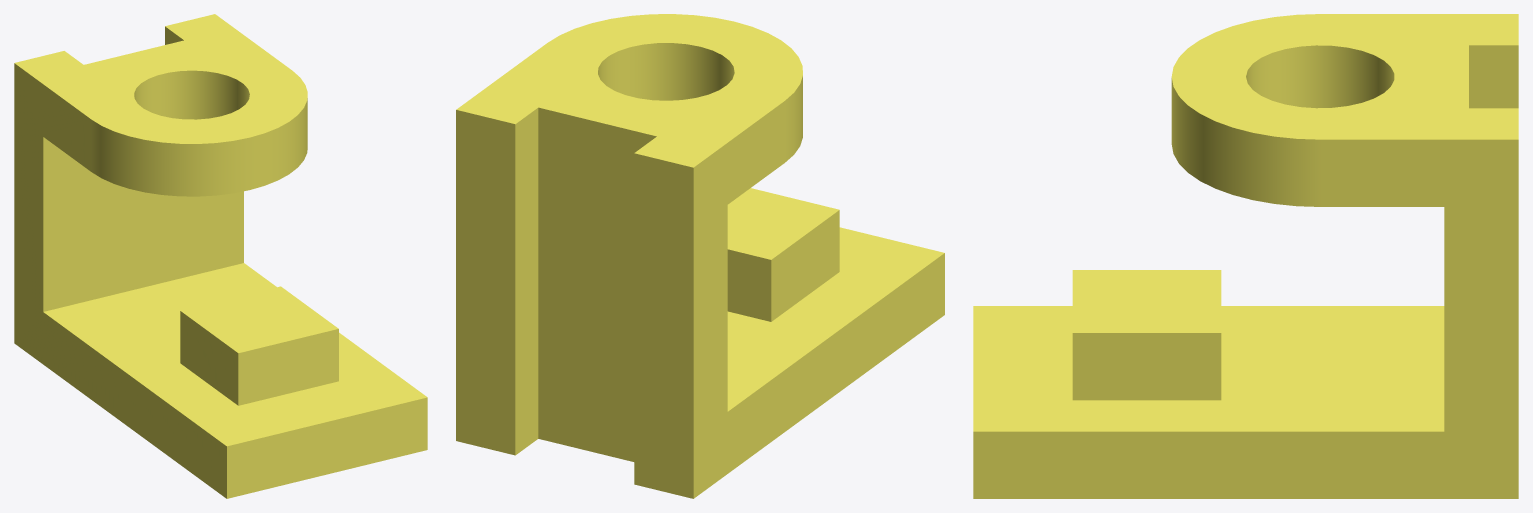
3 views of the same model, side by side, from view 1: azimuth 30°, elevation 25°; view 2: azimuth 150°, elevation 25°; view 3: azimuth 270°, elevation 25° (orthographic). The views are drawn at different scales.
Visible parts, largest first — view 1: 941; view 2: 941; view 3: 941.
Boxes of the visible parts, x1=… form: 941: x1=14, y1=14, x2=427, y2=498; 941: x1=456, y1=14, x2=944, y2=498; 941: x1=973, y1=14, x2=1518, y2=498.
Size of the model in its own units: 0.06 by 0.08 by 0.11.
